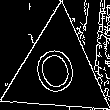O_SE: (29, 38, 85, 103)
